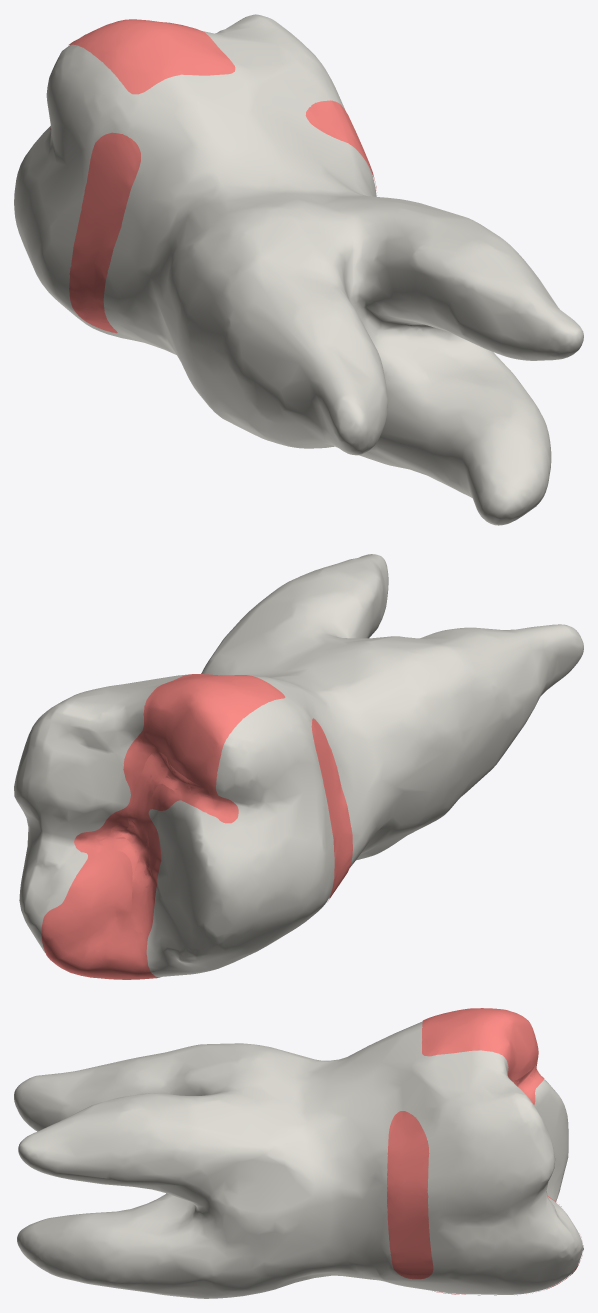
File: tooth_26_FMA55699.glb
The picture shows the model from 3 angles, top to bottom: view 1: azimuth 30°, elevation 25°; view 2: azimuth 150°, elevation 25°; view 3: azimuth 270°, elevation 25°; orthographic projection. The views are drawn at different scales.
Parts seen in each view (by area): view 1: tooth_26, class5_lingual, class2_distal, class5_facial; view 2: tooth_26, class2_mesial, class2_distal, class1, class5_lingual; view 3: tooth_26, class5_facial, class2_distal.
Part boxes in pixels (<box>): tooth_26: <box>14,14,583,525</box>; class5_lingual: <box>69,132,140,333</box>; class2_distal: <box>68,19,235,94</box>; class5_facial: <box>305,100,376,190</box>; tooth_26: <box>14,554,583,977</box>; class2_mesial: <box>41,791,161,979</box>; class2_distal: <box>123,674,285,825</box>; class1: <box>74,751,238,932</box>; class5_lingual: <box>311,718,352,900</box>; tooth_26: <box>14,1021,583,1298</box>; class5_facial: <box>387,1111,433,1279</box>; class2_distal: <box>422,1008,543,1104</box>.
Size of the model in its own units: 11 by 10.96 by 23.24.
